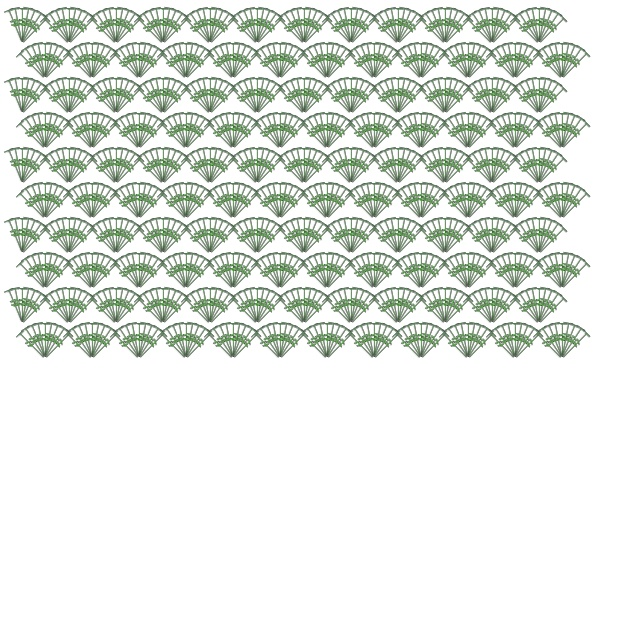fan: (18, 13, 52, 47), (39, 13, 73, 47), (65, 13, 99, 47), (86, 13, 120, 47), (112, 13, 146, 47), (133, 13, 167, 47), (159, 13, 193, 47), (180, 13, 214, 47), (206, 13, 240, 47), (227, 13, 261, 47), (253, 13, 287, 47), (274, 13, 308, 47), (300, 13, 334, 47), (321, 13, 355, 47), (347, 13, 381, 47), (368, 13, 402, 47), (394, 13, 428, 47), (415, 13, 449, 47), (441, 13, 475, 47), (462, 13, 496, 47), (488, 13, 522, 47), (509, 13, 543, 47), (535, 13, 569, 47), (15, 48, 49, 82), (41, 48, 75, 82), (62, 48, 96, 82), (88, 48, 122, 82), (109, 48, 143, 82), (135, 48, 169, 82), (156, 48, 190, 82), (182, 48, 216, 82), (203, 48, 237, 82), (229, 48, 263, 82), (250, 48, 284, 82), (276, 48, 310, 82), (297, 48, 331, 82), (323, 48, 357, 82), (344, 48, 378, 82), (370, 48, 404, 82), (391, 48, 425, 82), (417, 48, 451, 82), (438, 48, 472, 82), (464, 48, 498, 82), (485, 48, 519, 82), (511, 48, 545, 82), (532, 48, 566, 82), (558, 48, 592, 82), (18, 83, 52, 117), (39, 83, 73, 117), (65, 83, 99, 117), (86, 83, 120, 117), (112, 83, 146, 117), (133, 83, 167, 117), (159, 83, 193, 117), (180, 83, 214, 117), (206, 83, 240, 117), (227, 83, 261, 117), (253, 83, 287, 117), (274, 83, 308, 117), (300, 83, 334, 117), (321, 83, 355, 117), (347, 83, 381, 117), (368, 83, 402, 117), (394, 83, 428, 117), (415, 83, 449, 117), (441, 83, 475, 117), (462, 83, 496, 117), (488, 83, 522, 117), (509, 83, 543, 117), (535, 83, 569, 117), (15, 118, 49, 152), (41, 118, 75, 152), (62, 118, 96, 152), (88, 118, 122, 152), (109, 118, 143, 152), (135, 118, 169, 152), (156, 118, 190, 152), (182, 118, 216, 152), (203, 118, 237, 152), (229, 118, 263, 152), (250, 118, 284, 152), (276, 118, 310, 152), (297, 118, 331, 152), (323, 118, 357, 152), (344, 118, 378, 152), (370, 118, 404, 152), (391, 118, 425, 152), (417, 118, 451, 152), (438, 118, 472, 152), (464, 118, 498, 152), (485, 118, 519, 152), (511, 118, 545, 152), (532, 118, 566, 152), (558, 118, 592, 152), (18, 153, 52, 187), (39, 153, 73, 187), (65, 153, 99, 187), (86, 153, 120, 187), (112, 153, 146, 187), (133, 153, 167, 187), (159, 153, 193, 187), (180, 153, 214, 187), (206, 153, 240, 187), (227, 153, 261, 187), (253, 153, 287, 187), (274, 153, 308, 187), (300, 153, 334, 187), (321, 153, 355, 187), (347, 153, 381, 187), (368, 153, 402, 187), (394, 153, 428, 187), (415, 153, 449, 187), (441, 153, 475, 187), (462, 153, 496, 187), (488, 153, 522, 187), (509, 153, 543, 187), (535, 153, 569, 187), (15, 188, 49, 222), (41, 188, 75, 222), (62, 188, 96, 222), (88, 188, 122, 222), (109, 188, 143, 222), (135, 188, 169, 222), (156, 188, 190, 222), (182, 188, 216, 222), (203, 188, 237, 222), (229, 188, 263, 222), (250, 188, 284, 222), (276, 188, 310, 222), (297, 188, 331, 222), (323, 188, 357, 222), (344, 188, 378, 222), (370, 188, 404, 222), (391, 188, 425, 222), (417, 188, 451, 222), (438, 188, 472, 222), (464, 188, 498, 222), (485, 188, 519, 222), (511, 188, 545, 222), (532, 188, 566, 222), (558, 188, 592, 222), (18, 223, 52, 257), (39, 223, 73, 257), (65, 223, 99, 257), (86, 223, 120, 257), (112, 223, 146, 257), (133, 223, 167, 257), (159, 223, 193, 257), (180, 223, 214, 257), (206, 223, 240, 257), (227, 223, 261, 257), (253, 223, 287, 257), (274, 223, 308, 257), (300, 223, 334, 257), (321, 223, 355, 257), (347, 223, 381, 257), (368, 223, 402, 257), (394, 223, 428, 257), (415, 223, 449, 257), (441, 223, 475, 257), (462, 223, 496, 257), (488, 223, 522, 257), (509, 223, 543, 257), (535, 223, 569, 257), (15, 258, 49, 292), (41, 258, 75, 292), (62, 258, 96, 292), (88, 258, 122, 292), (109, 258, 143, 292), (135, 258, 169, 292), (156, 258, 190, 292), (182, 258, 216, 292), (203, 258, 237, 292), (229, 258, 263, 292), (250, 258, 284, 292), (276, 258, 310, 292), (297, 258, 331, 292), (323, 258, 357, 292), (344, 258, 378, 292), (370, 258, 404, 292), (391, 258, 425, 292), (417, 258, 451, 292), (438, 258, 472, 292), (464, 258, 498, 292), (485, 258, 519, 292), (511, 258, 545, 292), (532, 258, 566, 292), (558, 258, 592, 292), (18, 293, 52, 327), (39, 293, 73, 327), (65, 293, 99, 327), (86, 293, 120, 327), (112, 293, 146, 327), (133, 293, 167, 327), (159, 293, 193, 327), (180, 293, 214, 327), (206, 293, 240, 327), (227, 293, 261, 327), (253, 293, 287, 327), (274, 293, 308, 327), (300, 293, 334, 327), (321, 293, 355, 327), (347, 293, 381, 327), (368, 293, 402, 327), (394, 293, 428, 327), (415, 293, 449, 327), (441, 293, 475, 327), (462, 293, 496, 327), (488, 293, 522, 327), (509, 293, 543, 327), (535, 293, 569, 327), (15, 328, 49, 362), (41, 328, 75, 362), (62, 328, 96, 362), (88, 328, 122, 362), (109, 328, 143, 362), (135, 328, 169, 362), (156, 328, 190, 362), (182, 328, 216, 362), (203, 328, 237, 362), (229, 328, 263, 362), (250, 328, 284, 362), (276, 328, 310, 362), (297, 328, 331, 362), (323, 328, 357, 362), (344, 328, 378, 362), (370, 328, 404, 362), (391, 328, 425, 362), (417, 328, 451, 362), (438, 328, 472, 362), (464, 328, 498, 362), (485, 328, 519, 362), (511, 328, 545, 362), (532, 328, 566, 362), (558, 328, 592, 362), (17, 10, 47, 46), (44, 10, 74, 46), (64, 10, 94, 46), (91, 10, 121, 46), (111, 10, 141, 46), (138, 10, 168, 46), (158, 10, 188, 46), (185, 10, 215, 46), (205, 10, 235, 46), (232, 10, 262, 46), (252, 10, 282, 46), (279, 10, 309, 46), (299, 10, 329, 46), (326, 10, 356, 46), (346, 10, 376, 46), (373, 10, 403, 46), (393, 10, 423, 46), (420, 10, 450, 46), (440, 10, 470, 46), (467, 10, 497, 46), (487, 10, 517, 46), (514, 10, 544, 46), (534, 10, 564, 46), (20, 45, 50, 81), (40, 45, 70, 81), (67, 45, 97, 81), (87, 45, 117, 81), (114, 45, 144, 81), (134, 45, 164, 81), (161, 45, 191, 81), (181, 45, 211, 81), (208, 45, 238, 81), (228, 45, 258, 81), (255, 45, 285, 81), (275, 45, 305, 81), (302, 45, 332, 81), (322, 45, 352, 81), (349, 45, 379, 81), (369, 45, 399, 81), (396, 45, 426, 81), (416, 45, 446, 81), (443, 45, 473, 81), (463, 45, 493, 81), (490, 45, 520, 81), (510, 45, 540, 81), (537, 45, 567, 81), (557, 45, 587, 81), (17, 80, 47, 116), (44, 80, 74, 116), (64, 80, 94, 116), (91, 80, 121, 116), (111, 80, 141, 116), (138, 80, 168, 116), (158, 80, 188, 116), (185, 80, 215, 116), (205, 80, 235, 116), (232, 80, 262, 116), (252, 80, 282, 116), (279, 80, 309, 116), (299, 80, 329, 116), (326, 80, 356, 116), (346, 80, 376, 116), (373, 80, 403, 116), (393, 80, 423, 116), (420, 80, 450, 116), (440, 80, 470, 116), (467, 80, 497, 116), (487, 80, 517, 116), (514, 80, 544, 116), (534, 80, 564, 116), (20, 115, 50, 151), (40, 115, 70, 151), (67, 115, 97, 151), (87, 115, 117, 151), (114, 115, 144, 151), (134, 115, 164, 151), (161, 115, 191, 151), (181, 115, 211, 151), (208, 115, 238, 151), (228, 115, 258, 151), (255, 115, 285, 151), (275, 115, 305, 151), (302, 115, 332, 151), (322, 115, 352, 151), (349, 115, 379, 151), (369, 115, 399, 151), (396, 115, 426, 151), (416, 115, 446, 151), (443, 115, 473, 151), (463, 115, 493, 151), (490, 115, 520, 151), (510, 115, 540, 151), (537, 115, 567, 151), (557, 115, 587, 151), (17, 150, 47, 186), (44, 150, 74, 186), (64, 150, 94, 186), (91, 150, 121, 186), (111, 150, 141, 186), (138, 150, 168, 186), (158, 150, 188, 186), (185, 150, 215, 186), (205, 150, 235, 186), (232, 150, 262, 186), (252, 150, 282, 186), (279, 150, 309, 186), (299, 150, 329, 186), (326, 150, 356, 186), (346, 150, 376, 186), (373, 150, 403, 186), (393, 150, 423, 186), (420, 150, 450, 186), (440, 150, 470, 186), (467, 150, 497, 186), (487, 150, 517, 186), (514, 150, 544, 186), (534, 150, 564, 186), (20, 185, 50, 221), (40, 185, 70, 221), (67, 185, 97, 221), (87, 185, 117, 221), (114, 185, 144, 221), (134, 185, 164, 221), (161, 185, 191, 221), (181, 185, 211, 221), (208, 185, 238, 221), (228, 185, 258, 221), (255, 185, 285, 221), (275, 185, 305, 221), (302, 185, 332, 221), (322, 185, 352, 221), (349, 185, 379, 221), (369, 185, 399, 221), (396, 185, 426, 221), (416, 185, 446, 221), (443, 185, 473, 221), (463, 185, 493, 221), (490, 185, 520, 221), (510, 185, 540, 221), (537, 185, 567, 221), (557, 185, 587, 221), (17, 220, 47, 256), (44, 220, 74, 256), (64, 220, 94, 256), (91, 220, 121, 256), (111, 220, 141, 256), (138, 220, 168, 256), (158, 220, 188, 256), (185, 220, 215, 256), (205, 220, 235, 256), (232, 220, 262, 256), (252, 220, 282, 256), (279, 220, 309, 256), (299, 220, 329, 256), (326, 220, 356, 256), (346, 220, 376, 256), (373, 220, 403, 256), (393, 220, 423, 256), (420, 220, 450, 256), (440, 220, 470, 256), (467, 220, 497, 256), (487, 220, 517, 256), (514, 220, 544, 256), (534, 220, 564, 256), (20, 255, 50, 291), (40, 255, 70, 291), (67, 255, 97, 291), (87, 255, 117, 291), (114, 255, 144, 291), (134, 255, 164, 291), (161, 255, 191, 291), (181, 255, 211, 291), (208, 255, 238, 291), (228, 255, 258, 291), (255, 255, 285, 291), (275, 255, 305, 291), (302, 255, 332, 291), (322, 255, 352, 291), (349, 255, 379, 291), (369, 255, 399, 291), (396, 255, 426, 291), (416, 255, 446, 291), (443, 255, 473, 291), (463, 255, 493, 291), (490, 255, 520, 291), (510, 255, 540, 291), (537, 255, 567, 291), (557, 255, 587, 291), (17, 290, 47, 326), (44, 290, 74, 326), (64, 290, 94, 326), (91, 290, 121, 326), (111, 290, 141, 326), (138, 290, 168, 326), (158, 290, 188, 326), (185, 290, 215, 326), (205, 290, 235, 326), (232, 290, 262, 326), (252, 290, 282, 326), (279, 290, 309, 326), (299, 290, 329, 326), (326, 290, 356, 326), (346, 290, 376, 326), (373, 290, 403, 326), (393, 290, 423, 326), (420, 290, 450, 326), (440, 290, 470, 326), (467, 290, 497, 326), (487, 290, 517, 326), (514, 290, 544, 326), (534, 290, 564, 326), (20, 325, 50, 361), (40, 325, 70, 361), (67, 325, 97, 361), (87, 325, 117, 361), (114, 325, 144, 361), (134, 325, 164, 361), (161, 325, 191, 361), (181, 325, 211, 361), (208, 325, 238, 361), (228, 325, 258, 361), (255, 325, 285, 361), (275, 325, 305, 361), (302, 325, 332, 361), (322, 325, 352, 361), (349, 325, 379, 361), (369, 325, 399, 361), (396, 325, 426, 361), (416, 325, 446, 361), (443, 325, 473, 361), (463, 325, 493, 361), (490, 325, 520, 361), (510, 325, 540, 361), (537, 325, 567, 361), (557, 325, 587, 361), (3, 7, 28, 45), (16, 7, 41, 45), (50, 7, 75, 45), (63, 7, 88, 45), (97, 7, 122, 45), (110, 7, 135, 45), (144, 7, 169, 45), (157, 7, 182, 45), (191, 7, 216, 45), (204, 7, 229, 45), (238, 7, 263, 45), (251, 7, 276, 45), (285, 7, 310, 45), (298, 7, 323, 45), (332, 7, 357, 45), (345, 7, 370, 45), (379, 7, 404, 45), (392, 7, 417, 45), (426, 7, 451, 45), (439, 7, 464, 45), (473, 7, 498, 45), (486, 7, 511, 45), (520, 7, 545, 45), (533, 7, 558, 45), (26, 42, 51, 80), (39, 42, 64, 80), (73, 42, 98, 80), (86, 42, 111, 80), (120, 42, 145, 80), (133, 42, 158, 80), (167, 42, 192, 80), (180, 42, 205, 80), (214, 42, 239, 80), (227, 42, 252, 80), (261, 42, 286, 80), (274, 42, 299, 80), (308, 42, 333, 80), (321, 42, 346, 80), (355, 42, 380, 80), (368, 42, 393, 80), (402, 42, 427, 80), (415, 42, 440, 80), (449, 42, 474, 80), (462, 42, 487, 80), (496, 42, 521, 80), (509, 42, 534, 80), (543, 42, 568, 80), (556, 42, 581, 80), (3, 77, 28, 115), (16, 77, 41, 115), (50, 77, 75, 115), (63, 77, 88, 115), (97, 77, 122, 115), (110, 77, 135, 115), (144, 77, 169, 115), (157, 77, 182, 115), (191, 77, 216, 115), (204, 77, 229, 115), (238, 77, 263, 115), (251, 77, 276, 115), (285, 77, 310, 115), (298, 77, 323, 115), (332, 77, 357, 115), (345, 77, 370, 115), (379, 77, 404, 115), (392, 77, 417, 115), (426, 77, 451, 115), (439, 77, 464, 115), (473, 77, 498, 115), (486, 77, 511, 115), (520, 77, 545, 115), (533, 77, 558, 115), (26, 112, 51, 150), (39, 112, 64, 150), (73, 112, 98, 150), (86, 112, 111, 150), (120, 112, 145, 150), (133, 112, 158, 150), (167, 112, 192, 150), (180, 112, 205, 150), (214, 112, 239, 150), (227, 112, 252, 150), (261, 112, 286, 150), (274, 112, 299, 150), (308, 112, 333, 150), (321, 112, 346, 150), (355, 112, 380, 150), (368, 112, 393, 150), (402, 112, 427, 150), (415, 112, 440, 150), (449, 112, 474, 150), (462, 112, 487, 150), (496, 112, 521, 150), (509, 112, 534, 150), (543, 112, 568, 150), (556, 112, 581, 150), (3, 147, 28, 185), (16, 147, 41, 185), (50, 147, 75, 185), (63, 147, 88, 185), (97, 147, 122, 185), (110, 147, 135, 185), (144, 147, 169, 185), (157, 147, 182, 185), (191, 147, 216, 185), (204, 147, 229, 185), (238, 147, 263, 185), (251, 147, 276, 185), (285, 147, 310, 185), (298, 147, 323, 185), (332, 147, 357, 185), (345, 147, 370, 185), (379, 147, 404, 185), (392, 147, 417, 185), (426, 147, 451, 185), (439, 147, 464, 185), (473, 147, 498, 185), (486, 147, 511, 185), (520, 147, 545, 185), (533, 147, 558, 185), (26, 182, 51, 220), (39, 182, 64, 220), (73, 182, 98, 220), (86, 182, 111, 220), (120, 182, 145, 220), (133, 182, 158, 220), (167, 182, 192, 220), (180, 182, 205, 220), (214, 182, 239, 220), (227, 182, 252, 220), (261, 182, 286, 220), (274, 182, 299, 220), (308, 182, 333, 220), (321, 182, 346, 220), (355, 182, 380, 220), (368, 182, 393, 220), (402, 182, 427, 220), (415, 182, 440, 220), (449, 182, 474, 220), (462, 182, 487, 220), (496, 182, 521, 220), (509, 182, 534, 220), (543, 182, 568, 220), (556, 182, 581, 220), (3, 217, 28, 255), (16, 217, 41, 255), (50, 217, 75, 255), (63, 217, 88, 255), (97, 217, 122, 255), (110, 217, 135, 255), (144, 217, 169, 255), (157, 217, 182, 255), (191, 217, 216, 255), (204, 217, 229, 255), (238, 217, 263, 255), (251, 217, 276, 255), (285, 217, 310, 255), (298, 217, 323, 255), (332, 217, 357, 255), (345, 217, 370, 255), (379, 217, 404, 255), (392, 217, 417, 255), (426, 217, 451, 255), (439, 217, 464, 255), (473, 217, 498, 255), (486, 217, 511, 255), (520, 217, 545, 255), (533, 217, 558, 255), (26, 252, 51, 290), (39, 252, 64, 290), (73, 252, 98, 290), (86, 252, 111, 290), (120, 252, 145, 290), (133, 252, 158, 290), (167, 252, 192, 290), (180, 252, 205, 290), (214, 252, 239, 290), (227, 252, 252, 290), (261, 252, 286, 290), (274, 252, 299, 290), (308, 252, 333, 290), (321, 252, 346, 290), (355, 252, 380, 290), (368, 252, 393, 290), (402, 252, 427, 290), (415, 252, 440, 290), (449, 252, 474, 290), (462, 252, 487, 290), (496, 252, 521, 290), (509, 252, 534, 290), (543, 252, 568, 290), (556, 252, 581, 290), (3, 287, 28, 325), (16, 287, 41, 325), (50, 287, 75, 325), (63, 287, 88, 325), (97, 287, 122, 325), (110, 287, 135, 325), (144, 287, 169, 325), (157, 287, 182, 325), (191, 287, 216, 325), (204, 287, 229, 325), (238, 287, 263, 325), (251, 287, 276, 325), (285, 287, 310, 325), (298, 287, 323, 325), (332, 287, 357, 325), (345, 287, 370, 325), (379, 287, 404, 325), (392, 287, 417, 325), (426, 287, 451, 325), (439, 287, 464, 325), (473, 287, 498, 325), (486, 287, 511, 325), (520, 287, 545, 325), (533, 287, 558, 325), (26, 322, 51, 360), (39, 322, 64, 360), (73, 322, 98, 360), (86, 322, 111, 360), (120, 322, 145, 360), (133, 322, 158, 360), (167, 322, 192, 360), (180, 322, 205, 360), (214, 322, 239, 360), (227, 322, 252, 360), (261, 322, 286, 360), (274, 322, 299, 360), (308, 322, 333, 360), (321, 322, 346, 360), (355, 322, 380, 360), (368, 322, 393, 360), (402, 322, 427, 360), (415, 322, 440, 360), (449, 322, 474, 360), (462, 322, 487, 360), (496, 322, 521, 360), (509, 322, 534, 360), (543, 322, 568, 360), (556, 322, 581, 360), (9, 7, 28, 44), (16, 7, 35, 44), (56, 7, 75, 44), (63, 7, 82, 44), (103, 7, 122, 44), (110, 7, 129, 44), (150, 7, 169, 44), (157, 7, 176, 44), (197, 7, 216, 44), (204, 7, 223, 44), (244, 7, 263, 44), (251, 7, 270, 44), (291, 7, 310, 44), (298, 7, 317, 44), (338, 7, 357, 44), (345, 7, 364, 44), (385, 7, 404, 44), (392, 7, 411, 44), (432, 7, 451, 44), (439, 7, 458, 44), (479, 7, 498, 44), (486, 7, 505, 44), (526, 7, 545, 44), (533, 7, 552, 44), (32, 42, 51, 79), (39, 42, 58, 79), (79, 42, 98, 79), (86, 42, 105, 79), (126, 42, 145, 79), (133, 42, 152, 79), (173, 42, 192, 79), (180, 42, 199, 79), (220, 42, 239, 79), (227, 42, 246, 79), (267, 42, 286, 79), (274, 42, 293, 79), (314, 42, 333, 79), (321, 42, 340, 79), (361, 42, 380, 79), (368, 42, 387, 79), (408, 42, 427, 79), (415, 42, 434, 79), (455, 42, 474, 79), (462, 42, 481, 79), (502, 42, 521, 79), (509, 42, 528, 79), (549, 42, 568, 79), (556, 42, 575, 79), (9, 77, 28, 114), (16, 77, 35, 114), (56, 77, 75, 114), (63, 77, 82, 114), (103, 77, 122, 114), (110, 77, 129, 114), (150, 77, 169, 114), (157, 77, 176, 114), (197, 77, 216, 114), (204, 77, 223, 114), (244, 77, 263, 114), (251, 77, 270, 114), (291, 77, 310, 114), (298, 77, 317, 114), (338, 77, 357, 114), (345, 77, 364, 114), (385, 77, 404, 114), (392, 77, 411, 114), (432, 77, 451, 114), (439, 77, 458, 114), (479, 77, 498, 114), (486, 77, 505, 114), (526, 77, 545, 114), (533, 77, 552, 114), (32, 112, 51, 149), (39, 112, 58, 149), (79, 112, 98, 149), (86, 112, 105, 149), (126, 112, 145, 149), (133, 112, 152, 149), (173, 112, 192, 149), (180, 112, 199, 149), (220, 112, 239, 149), (227, 112, 246, 149), (267, 112, 286, 149), (274, 112, 293, 149), (314, 112, 333, 149), (321, 112, 340, 149), (361, 112, 380, 149), (368, 112, 387, 149), (408, 112, 427, 149), (415, 112, 434, 149), (455, 112, 474, 149), (462, 112, 481, 149), (502, 112, 521, 149), (509, 112, 528, 149), (549, 112, 568, 149), (556, 112, 575, 149), (9, 147, 28, 184), (16, 147, 35, 184), (56, 147, 75, 184), (63, 147, 82, 184), (103, 147, 122, 184), (110, 147, 129, 184), (150, 147, 169, 184), (157, 147, 176, 184), (197, 147, 216, 184), (204, 147, 223, 184), (244, 147, 263, 184), (251, 147, 270, 184), (291, 147, 310, 184), (298, 147, 317, 184), (338, 147, 357, 184), (345, 147, 364, 184), (385, 147, 404, 184), (392, 147, 411, 184), (432, 147, 451, 184), (439, 147, 458, 184), (479, 147, 498, 184), (486, 147, 505, 184), (526, 147, 545, 184), (533, 147, 552, 184), (32, 182, 51, 219), (39, 182, 58, 219), (79, 182, 98, 219), (86, 182, 105, 219), (126, 182, 145, 219), (133, 182, 152, 219), (173, 182, 192, 219), (180, 182, 199, 219), (220, 182, 239, 219), (227, 182, 246, 219), (267, 182, 286, 219), (274, 182, 293, 219), (314, 182, 333, 219), (321, 182, 340, 219), (361, 182, 380, 219), (368, 182, 387, 219), (408, 182, 427, 219), (415, 182, 434, 219), (455, 182, 474, 219), (462, 182, 481, 219), (502, 182, 521, 219), (509, 182, 528, 219), (549, 182, 568, 219), (556, 182, 575, 219), (9, 217, 28, 254), (16, 217, 35, 254), (56, 217, 75, 254), (63, 217, 82, 254), (103, 217, 122, 254), (110, 217, 129, 254), (150, 217, 169, 254), (157, 217, 176, 254), (197, 217, 216, 254), (204, 217, 223, 254), (244, 217, 263, 254), (251, 217, 270, 254), (291, 217, 310, 254), (298, 217, 317, 254), (338, 217, 357, 254), (345, 217, 364, 254), (385, 217, 404, 254), (392, 217, 411, 254), (432, 217, 451, 254), (439, 217, 458, 254), (479, 217, 498, 254), (486, 217, 505, 254), (526, 217, 545, 254), (533, 217, 552, 254), (32, 252, 51, 289), (39, 252, 58, 289), (79, 252, 98, 289), (86, 252, 105, 289), (126, 252, 145, 289), (133, 252, 152, 289), (173, 252, 192, 289), (180, 252, 199, 289), (220, 252, 239, 289), (227, 252, 246, 289), (267, 252, 286, 289), (274, 252, 293, 289), (314, 252, 333, 289), (321, 252, 340, 289), (361, 252, 380, 289), (368, 252, 387, 289), (408, 252, 427, 289), (415, 252, 434, 289), (455, 252, 474, 289), (462, 252, 481, 289), (502, 252, 521, 289), (509, 252, 528, 289), (549, 252, 568, 289), (556, 252, 575, 289), (9, 287, 28, 324), (16, 287, 35, 324), (56, 287, 75, 324), (63, 287, 82, 324), (103, 287, 122, 324), (110, 287, 129, 324), (150, 287, 169, 324), (157, 287, 176, 324), (197, 287, 216, 324), (204, 287, 223, 324), (244, 287, 263, 324), (251, 287, 270, 324), (291, 287, 310, 324), (298, 287, 317, 324), (338, 287, 357, 324), (345, 287, 364, 324), (385, 287, 404, 324), (392, 287, 411, 324), (432, 287, 451, 324), (439, 287, 458, 324), (479, 287, 498, 324), (486, 287, 505, 324), (526, 287, 545, 324), (533, 287, 552, 324), (32, 322, 51, 359), (39, 322, 58, 359), (79, 322, 98, 359), (86, 322, 105, 359), (126, 322, 145, 359), (133, 322, 152, 359), (173, 322, 192, 359), (180, 322, 199, 359), (220, 322, 239, 359), (227, 322, 246, 359), (267, 322, 286, 359), (274, 322, 293, 359), (314, 322, 333, 359), (321, 322, 340, 359), (361, 322, 380, 359), (368, 322, 387, 359), (408, 322, 427, 359), (415, 322, 434, 359), (455, 322, 474, 359), (462, 322, 481, 359), (502, 322, 521, 359), (509, 322, 528, 359), (549, 322, 568, 359), (556, 322, 575, 359), (16, 7, 28, 43), (63, 7, 75, 43), (110, 7, 122, 43), (157, 7, 169, 43), (204, 7, 216, 43), (251, 7, 263, 43), (298, 7, 310, 43), (345, 7, 357, 43), (392, 7, 404, 43), (439, 7, 451, 43), (486, 7, 498, 43), (533, 7, 545, 43), (39, 42, 51, 78), (86, 42, 98, 78), (133, 42, 145, 78), (180, 42, 192, 78), (227, 42, 239, 78), (274, 42, 286, 78), (321, 42, 333, 78), (368, 42, 380, 78), (415, 42, 427, 78), (462, 42, 474, 78), (509, 42, 521, 78), (556, 42, 568, 78), (16, 77, 28, 113), (63, 77, 75, 113), (110, 77, 122, 113), (157, 77, 169, 113), (204, 77, 216, 113), (251, 77, 263, 113), (298, 77, 310, 113), (345, 77, 357, 113), (392, 77, 404, 113), (439, 77, 451, 113), (486, 77, 498, 113), (533, 77, 545, 113), (39, 112, 51, 148), (86, 112, 98, 148), (133, 112, 145, 148), (180, 112, 192, 148), (227, 112, 239, 148), (274, 112, 286, 148), (321, 112, 333, 148), (368, 112, 380, 148), (415, 112, 427, 148), (462, 112, 474, 148), (509, 112, 521, 148), (556, 112, 568, 148), (16, 147, 28, 183), (63, 147, 75, 183), (110, 147, 122, 183), (157, 147, 169, 183), (204, 147, 216, 183), (251, 147, 263, 183), (298, 147, 310, 183), (345, 147, 357, 183), (392, 147, 404, 183), (439, 147, 451, 183), (486, 147, 498, 183), (533, 147, 545, 183), (39, 182, 51, 218), (86, 182, 98, 218), (133, 182, 145, 218), (180, 182, 192, 218), (227, 182, 239, 218), (274, 182, 286, 218), (321, 182, 333, 218), (368, 182, 380, 218), (415, 182, 427, 218), (462, 182, 474, 218), (509, 182, 521, 218), (556, 182, 568, 218), (16, 217, 28, 253), (63, 217, 75, 253), (110, 217, 122, 253), (157, 217, 169, 253), (204, 217, 216, 253), (251, 217, 263, 253), (298, 217, 310, 253), (345, 217, 357, 253), (392, 217, 404, 253), (439, 217, 451, 253), (486, 217, 498, 253), (533, 217, 545, 253), (39, 252, 51, 288), (86, 252, 98, 288), (133, 252, 145, 288), (180, 252, 192, 288), (227, 252, 239, 288), (274, 252, 286, 288), (321, 252, 333, 288), (368, 252, 380, 288), (415, 252, 427, 288), (462, 252, 474, 288), (509, 252, 521, 288), (556, 252, 568, 288), (16, 287, 28, 323), (63, 287, 75, 323), (110, 287, 122, 323), (157, 287, 169, 323), (204, 287, 216, 323), (251, 287, 263, 323), (298, 287, 310, 323), (345, 287, 357, 323), (392, 287, 404, 323), (439, 287, 451, 323), (486, 287, 498, 323), (533, 287, 545, 323), (39, 322, 51, 358), (86, 322, 98, 358), (133, 322, 145, 358), (180, 322, 192, 358), (227, 322, 239, 358), (274, 322, 286, 358), (321, 322, 333, 358), (368, 322, 380, 358), (415, 322, 427, 358), (462, 322, 474, 358), (509, 322, 521, 358), (556, 322, 568, 358)
